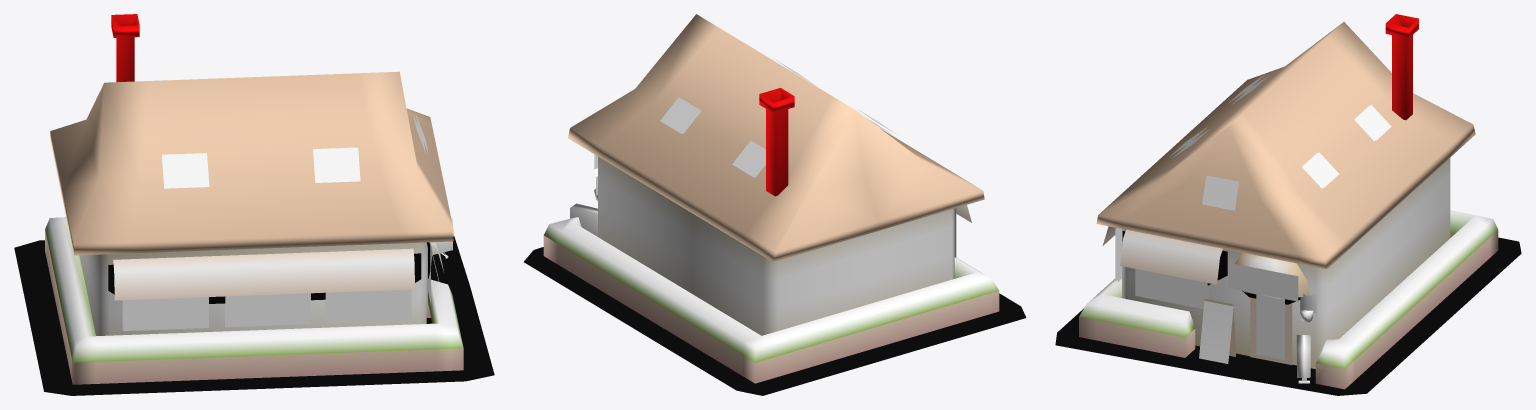
File: Cafe.gltf
3 renders of one model, left to right at view 1: azimuth 30°, elevation 25°; view 2: azimuth 150°, elevation 25°; view 3: azimuth 270°, elevation 25°, orthographic. The views are drawn at different scales.
Parts seen in each view (by area): view 1: Object_13; view 2: Object_13; view 3: Object_13.
Part boxes in pixels (x1,y1,x2,y2): Object_13: (14, 14, 494, 395); Object_13: (524, 14, 1026, 395); Object_13: (1055, 14, 1521, 395).
Size of the model in its own units: 0.844 by 0.4543 by 0.7883.
